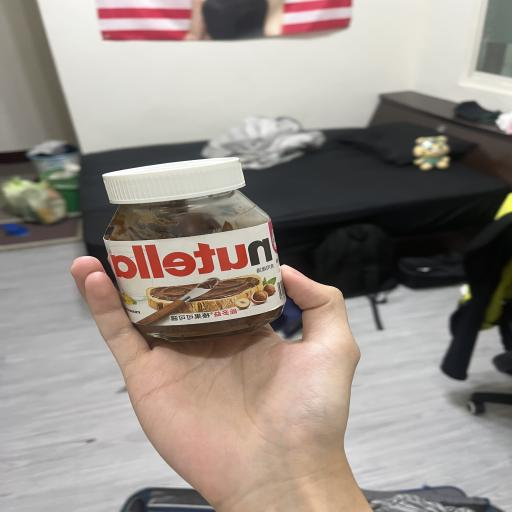chocolate_jar: (103, 158, 285, 341)
